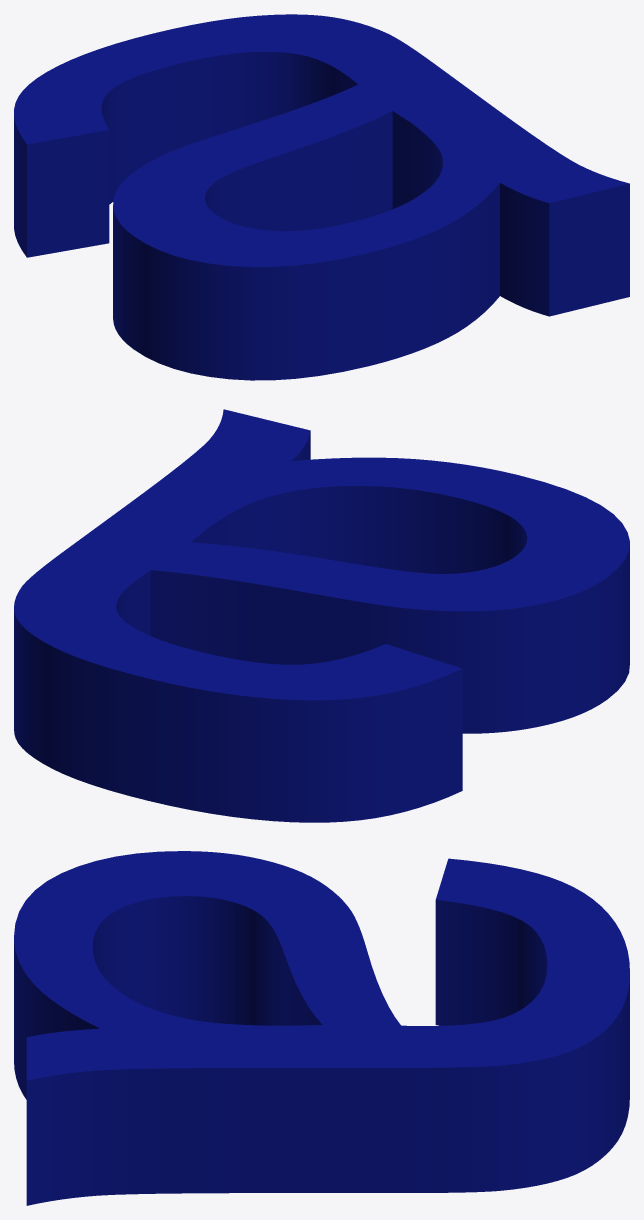
3 views of the same model, one above another, from view 1: azimuth 30°, elevation 25°; view 2: azimuth 150°, elevation 25°; view 3: azimuth 270°, elevation 25° (orthographic). The views are drawn at different scales.
Parts seen in each view (by area): view 1: TextPlus064; view 2: TextPlus064; view 3: TextPlus064.
Part boxes in pixels (x1,y1,x2,y2): TextPlus064: (14, 14, 629, 380); TextPlus064: (14, 409, 629, 822); TextPlus064: (14, 851, 629, 1205).
Size of the model in its own units: 17.12 by 4.35 by 19.4.
